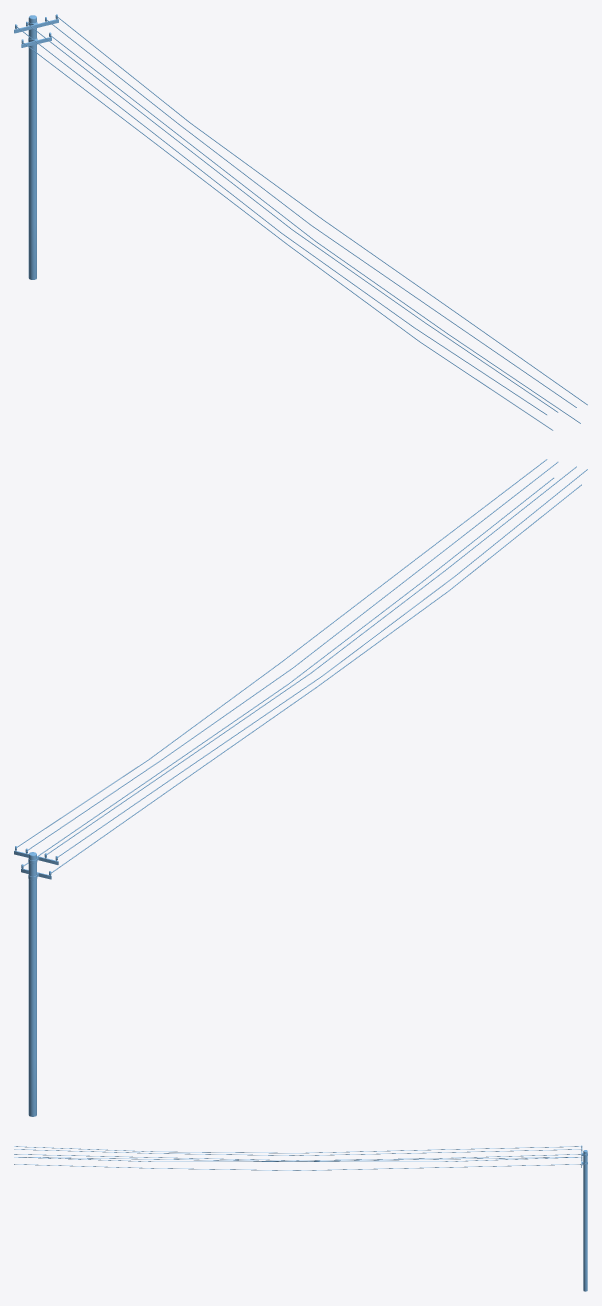
The model's file is Phone_Line_long_low.fbx.
3 renders of one model, top to bottom at view 1: azimuth 30°, elevation 25°; view 2: azimuth 150°, elevation 25°; view 3: azimuth 270°, elevation 25°, orthographic. The views are drawn at different scales.
Parts seen in each view (by area): view 1: Phone_Line_long; view 2: Phone_Line_long; view 3: Phone_Line_long.
Part boxes in pixels (x1,y1,x2,y2): Phone_Line_long: (14,14,587,430); Phone_Line_long: (14,459,587,1116); Phone_Line_long: (14,1145,587,1291).
Bounding box in the file's own units: 7.66 × 43.42 × 161.
